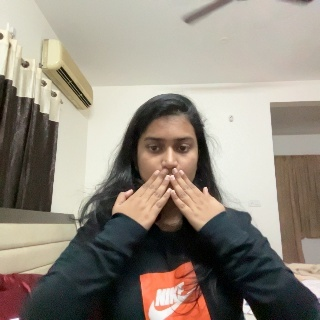Thank You: (100, 169, 250, 244)
